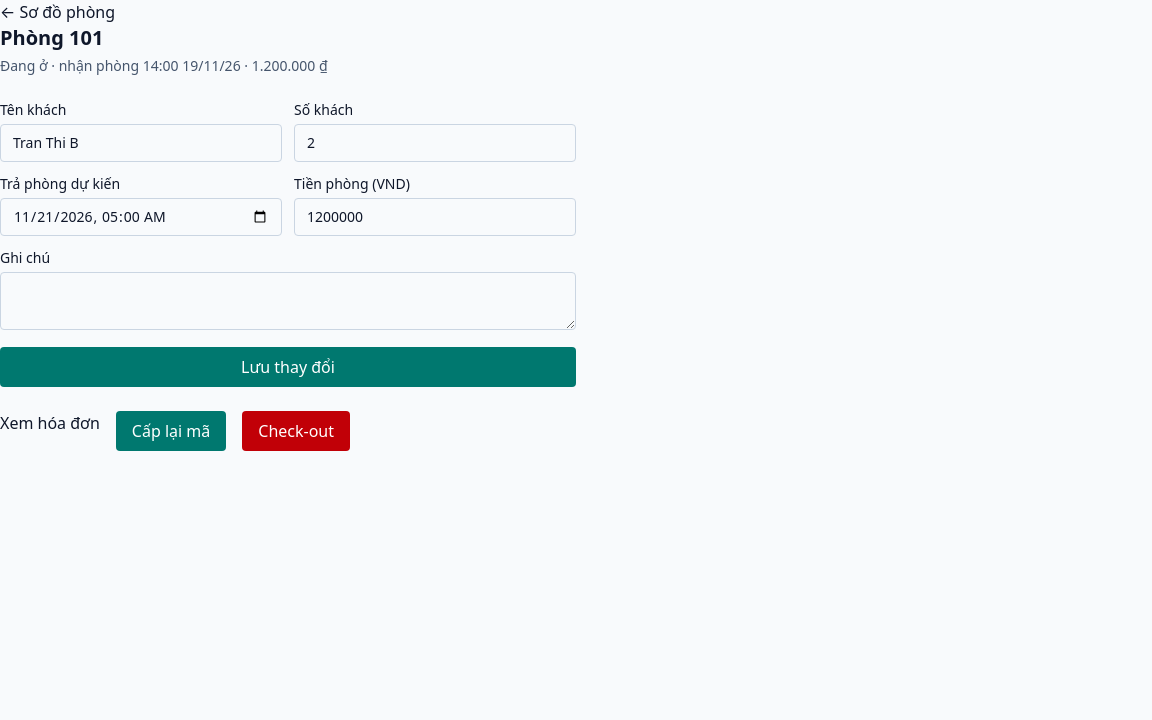
Test case: StayDetail › links to the bill and sends a blocked check-out to the open express request
The image size is (1152, 720).
Click the button "Check-out" at (296, 431), box top-left (242, 411), bottom-right (350, 451)
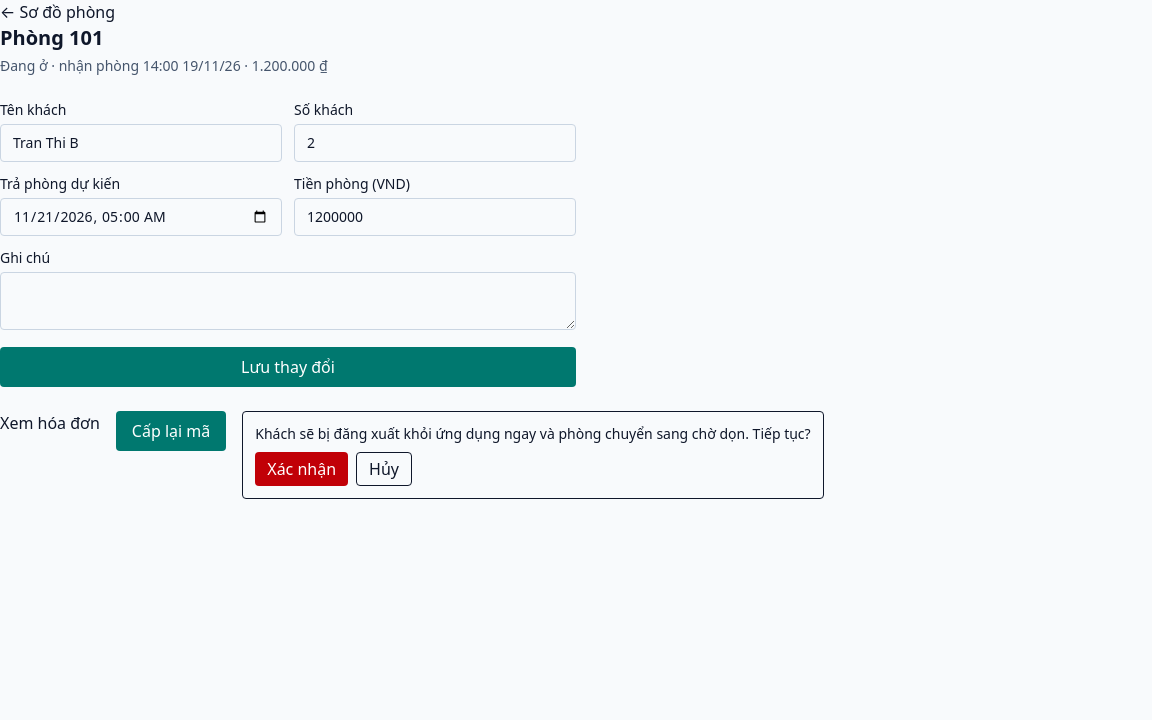
Click the button "Xác nhận" at (302, 469), box top-left (255, 452), bottom-right (348, 486)
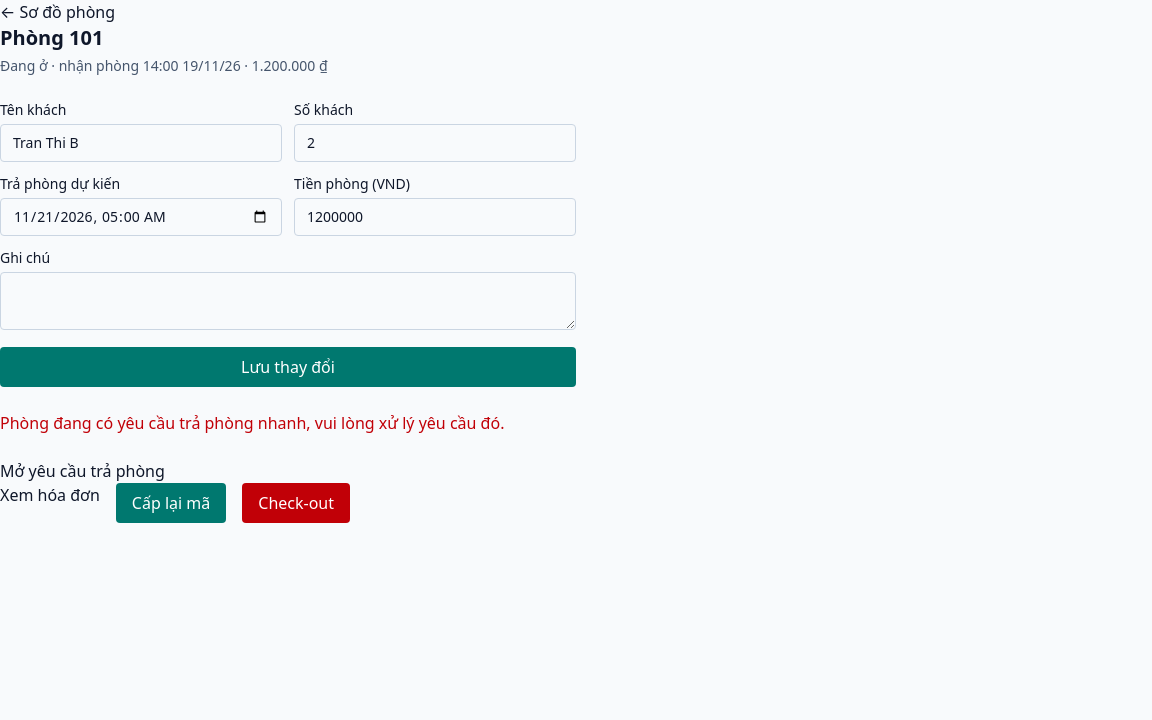
Result: the text "Phòng đang có yêu cầu trả phòng nhanh, vui lòng xử lý yêu cầu đó." is shown at top-left (0, 412), bottom-right (504, 434)
